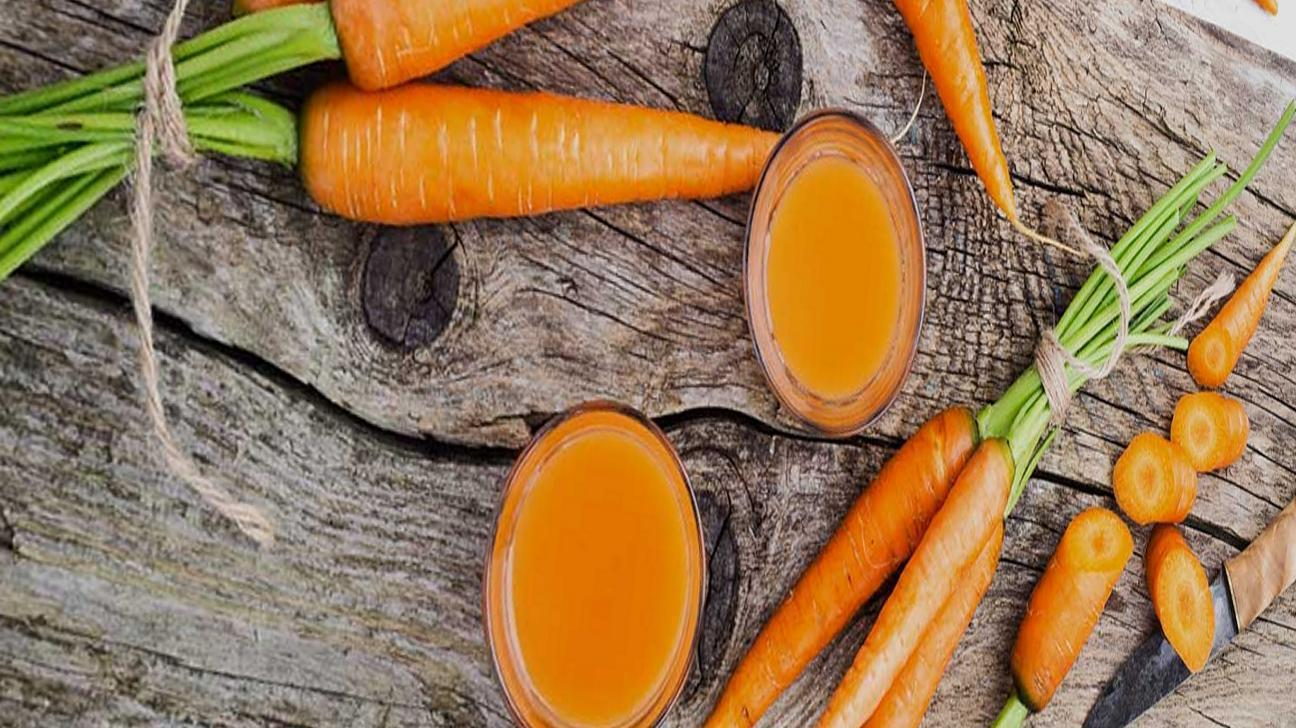carrot: (184, 1, 754, 201), (702, 411, 1036, 728), (998, 479, 1119, 728)
